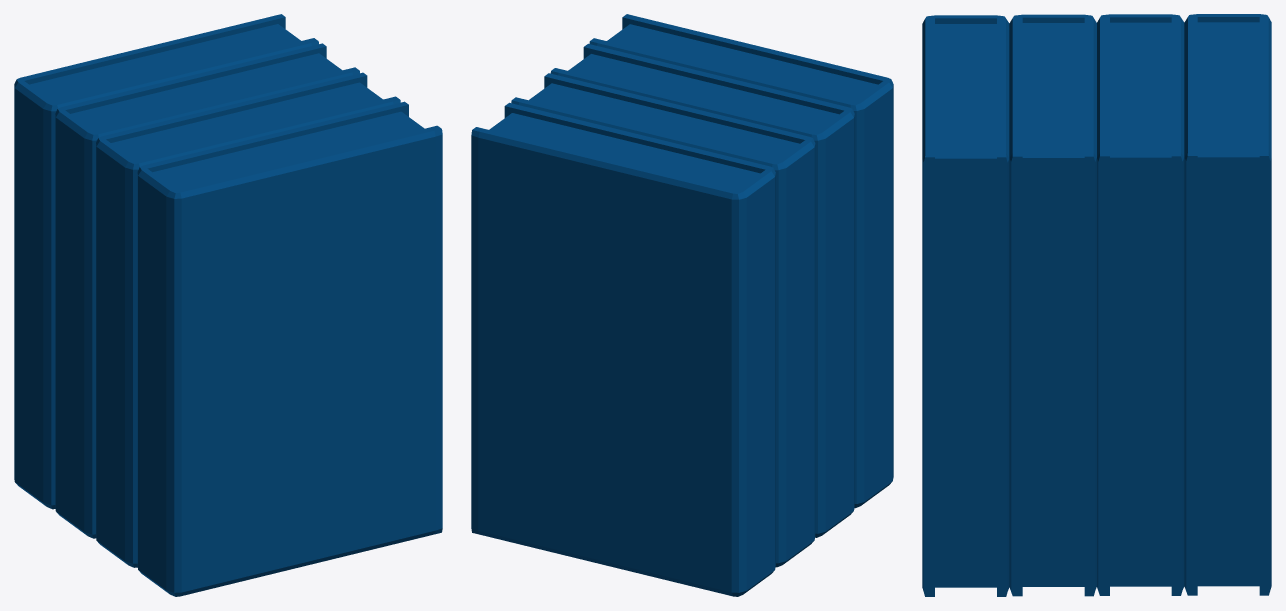
The model's file is Book_Multi_01.fbx.
3 views of the same model, side by side, from view 1: azimuth 30°, elevation 25°; view 2: azimuth 150°, elevation 25°; view 3: azimuth 270°, elevation 25° (orthographic). The views are drawn at different scales.
Parts seen in each view (by area): view 1: Book_Multi_01; view 2: Book_Multi_01; view 3: Book_Multi_01.
Boxes of the visible parts, bbox=[...] form: Book_Multi_01: bbox=[14, 14, 442, 596]; Book_Multi_01: bbox=[471, 14, 893, 596]; Book_Multi_01: bbox=[922, 14, 1271, 596].
Size of the model in its own units: 20.77 by 29.29 by 21.1.
